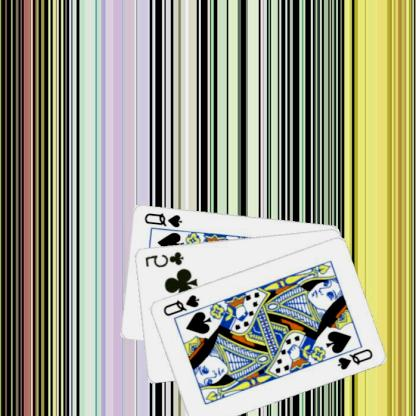5C: (144, 249, 186, 268)
QS: (162, 292, 202, 318), (336, 346, 376, 371), (143, 210, 185, 228)
